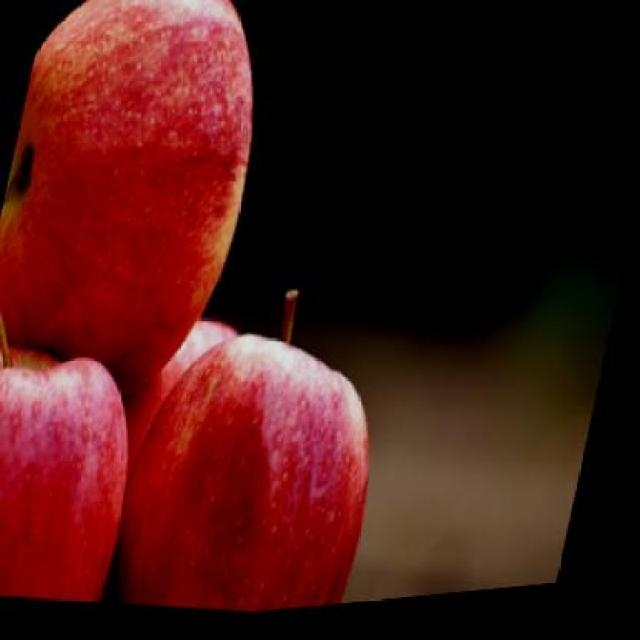Fresh Apple: (0, 0, 224, 378), (132, 333, 388, 631), (0, 362, 132, 612)
